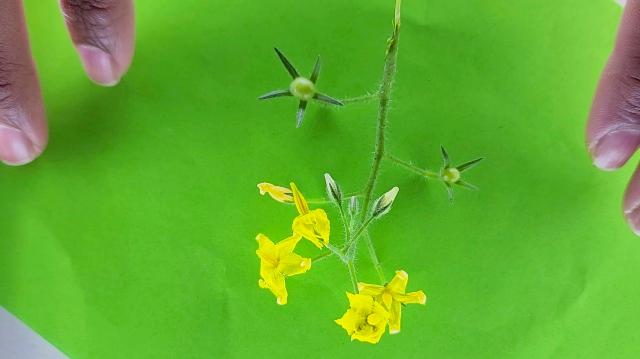Anthesis: (253, 228, 312, 305), (334, 290, 393, 344), (287, 181, 330, 251), (256, 181, 298, 204)
Flower Bud: (372, 186, 400, 218), (349, 194, 358, 217)
Fruit Bud: (291, 77, 316, 100), (441, 167, 459, 184)
